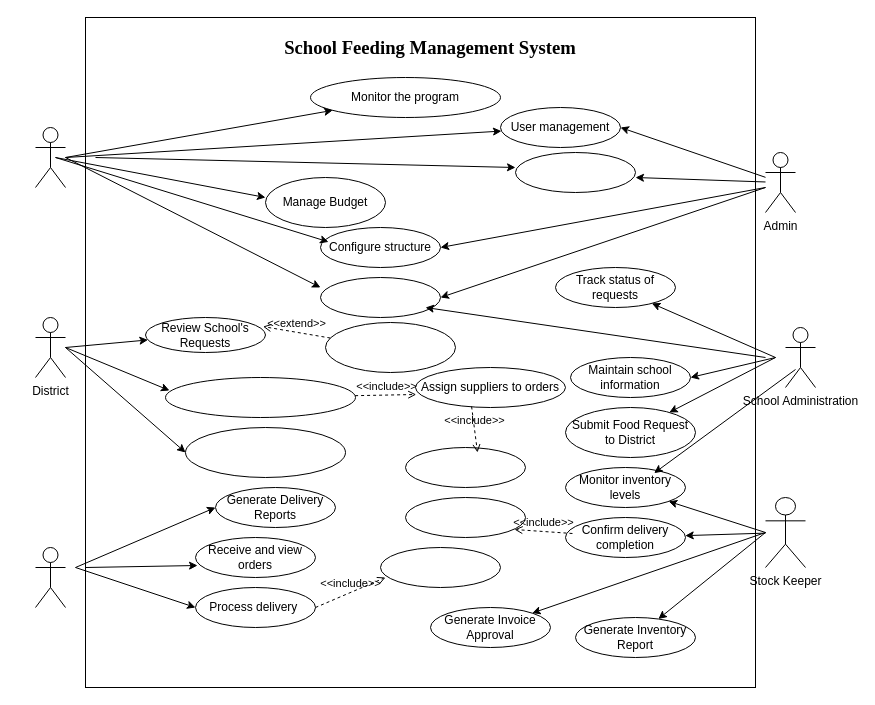
This 875x705 diagram has some shape labels left out. The centre of each missing label's shape, as x and y in pixels:
"Create orders" belongs at (x=260, y=397).
"Generate an aggregated district Report" belongs at (x=265, y=452).
"Generate report" belongs at (x=380, y=297).
"Government" belongs at (x=50, y=157).
"Monitor payment" belongs at (x=465, y=467).
"Record received stock" belongs at (x=465, y=517).
"Return to School with Feedback" belongs at (x=390, y=347).
"Supplier" belongs at (x=50, y=577).
"System & audit oversight" belongs at (x=575, y=172).
"Update delivery status" belongs at (x=440, y=567).
